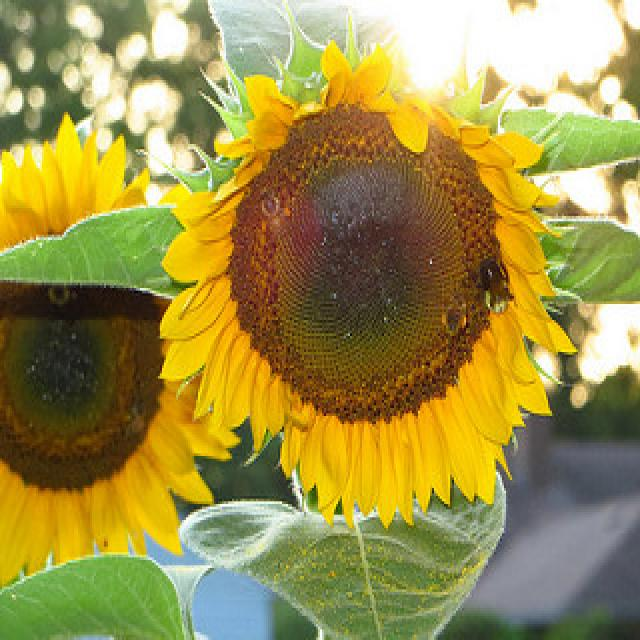sunflower: (162, 45, 570, 498), (0, 145, 214, 575)
